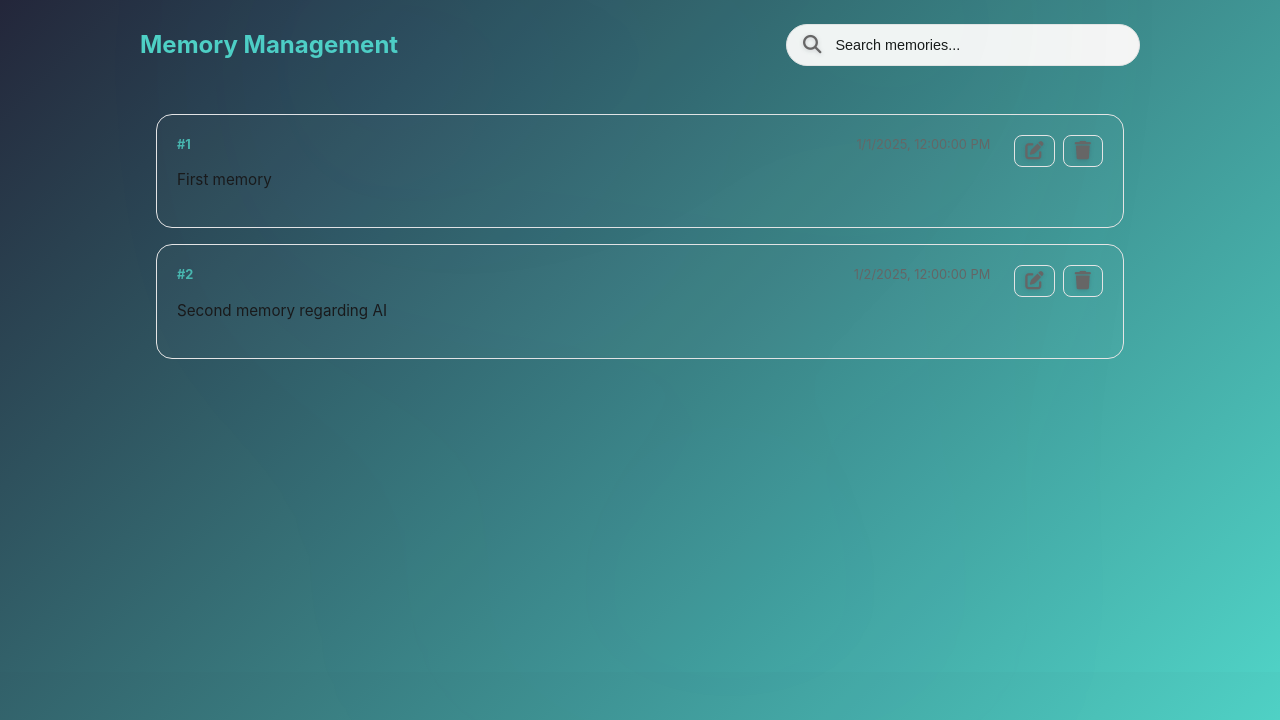
it: MemoryManager › filters memories based on search query
This screenshot has width=1280, height=720.
Step 1. Type "Second" into the field with placeholder "Search memories..." → (977, 45), box [831,33,1123,57]
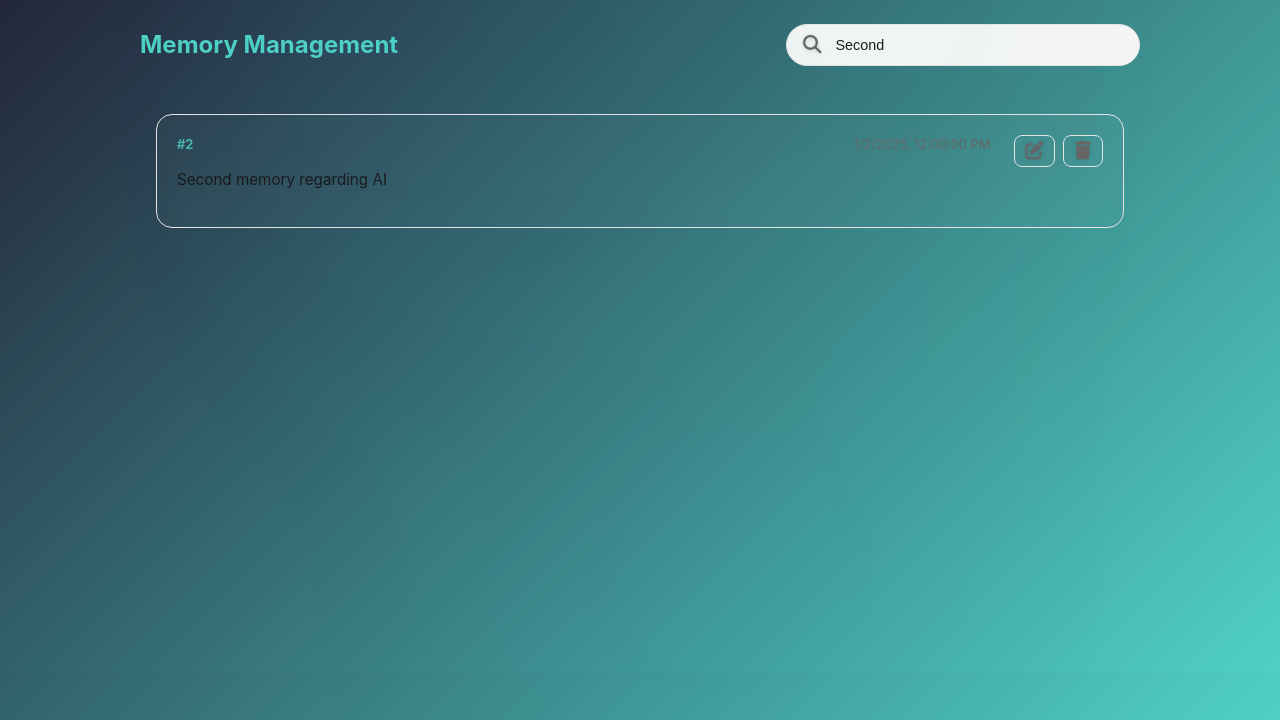
Check: the text "Second memory" is shown, box [177,170,387,189]
Check: the text "First memory" is gone
